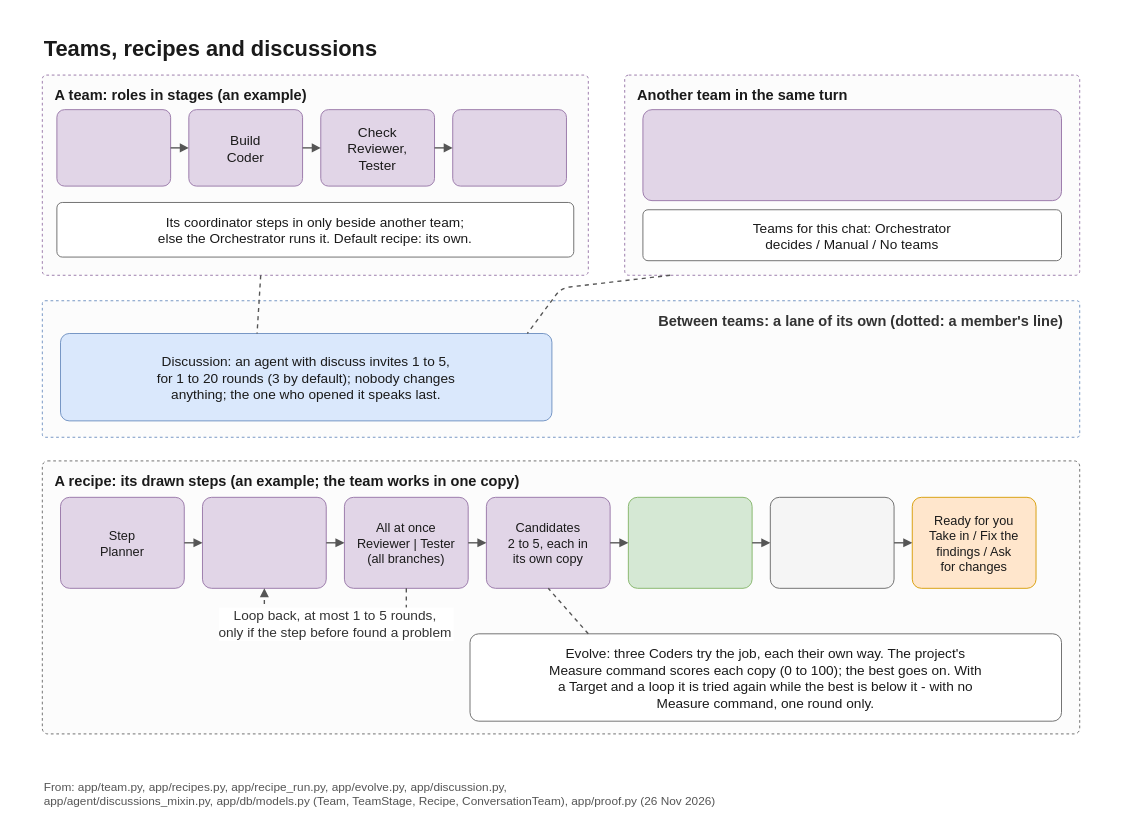
Image size: 1122x831. Some labels were removed from this diagram. Each missing label, with the centre of its shape:
"Checks (locked) the last step: follows the project or set for it" belongs at point 689,542.
"End Ask me, then in" belongs at point 831,542.
"Its own stages and roles, its own coordinator, its own recipe" belongs at point 852,155.
"Plan Planner" belongs at point 113,147.
"Step Coder" belongs at point 264,542.
"Write & keep up Docs writer" belongs at point 509,147.
